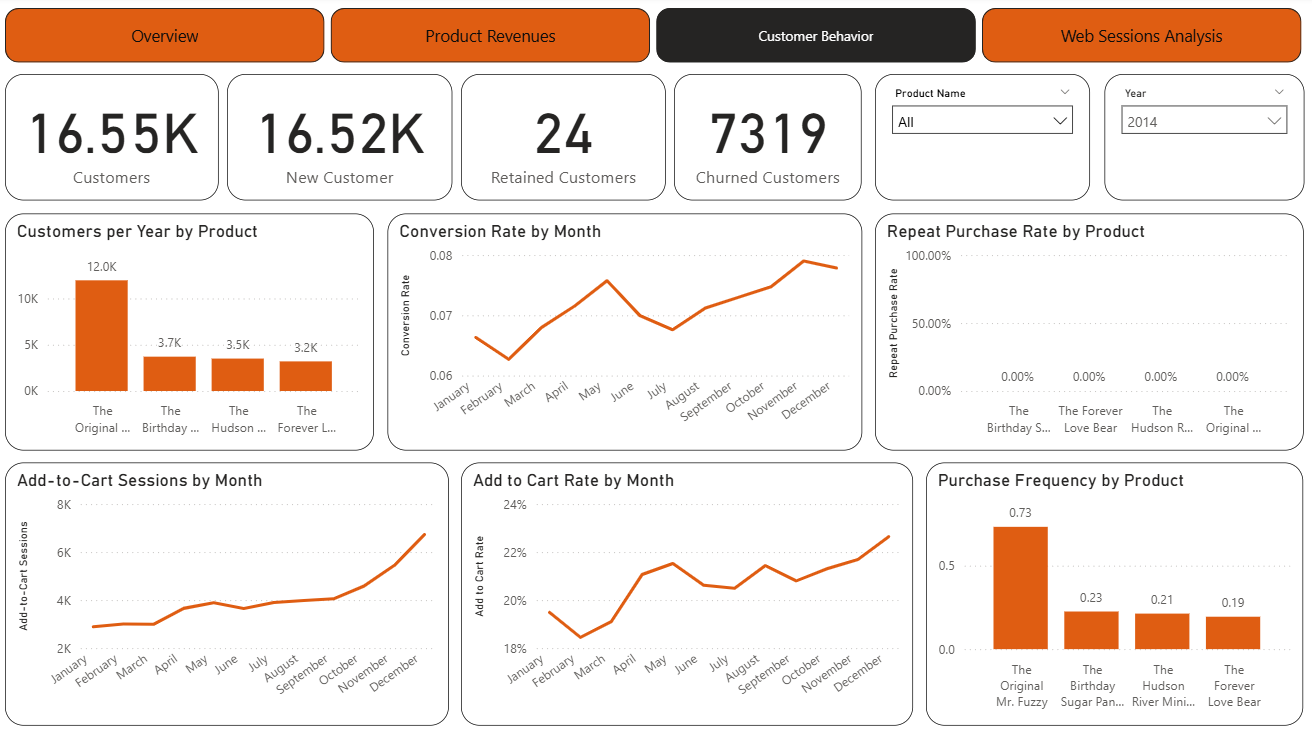

The dashboard page shown, as its layout file describes it:
{"tool":"powerbi","page":{"name":"Customer Behavior","canvas":[1280,720],"ordinal":2},"visuals":[{"type":"card","fields":{"Values":["_Measures.Customers"]},"box":[8.3,76.2,207.1,122.6],"z":0},{"type":"slicer","fields":{"Values":["Date.Year"]},"box":[1075.1,76.2,193.8,122.6],"z":1000},{"type":"card","fields":{"Values":["_Measures.New Customer"]},"box":[223.6,76.2,218.7,122.6],"z":2000},{"type":"card","fields":{"Values":["_Measures.Churned Customers"]},"box":[657.6,76.2,182.2,122.6],"z":3000},{"type":"card","fields":{"Values":["_Measures.Retained Customers"]},"box":[450.6,76.2,198.8,122.6],"z":4000},{"type":"lineChart","fields":{"Y":["_Measures.Conversion Rate"],"Category":["Date.Month"]},"box":[379.3,210.4,460.5,230.3],"z":5000},{"type":"lineChart","fields":{"Y":["_Measures.Add-to-Cart"],"Category":["Date.Month"]},"box":[8.3,452.2,430.7,255.1],"z":6000},{"type":"clusteredColumnChart","title":"Customers per Year by Product","fields":{"Category":["products.product_name"],"Y":["_Measures.Customers per Year"]},"box":[8.3,210.4,357.8,230.3],"z":7000},{"type":"clusteredColumnChart","title":"Repeat Purchase Rate by Product","fields":{"Category":["products.product_name"],"Y":["_Measures.Repeat Purchase Rate"]},"box":[853.1,210.4,415.8,230.3],"z":8000},{"type":"clusteredColumnChart","title":"Purchase Frequency by Product","fields":{"Y":["_Measures.Product Purchase Frequency"],"Category":["products.product_name"]},"box":[902.8,452.2,366.1,255.1],"z":9000},{"type":"lineChart","fields":{"Y":["_Measures.Add to Cart Rate"],"Category":["Date.Month"]},"box":[450.6,452.2,439,255.1],"z":10000},{"type":"slicer","fields":{"Values":["products.product_name"]},"box":[853.1,76.2,208.7,122.6],"z":11000},{"type":"pageNavigator","box":[8.3,11.6,1260.6,53],"z":12000}]}

Visuals, with their boxes in screenshot pixels (x1, y1, x2, y2), scaled from the page's 1280x720 canvas onto the 1312x732 screenshot:
card - _Measures.Customers: (x1=9, y1=77, x2=221, y2=202)
slicer - Date.Year: (x1=1102, y1=77, x2=1301, y2=202)
card - _Measures.New Customer: (x1=229, y1=77, x2=453, y2=202)
card - _Measures.Churned Customers: (x1=674, y1=77, x2=861, y2=202)
card - _Measures.Retained Customers: (x1=462, y1=77, x2=666, y2=202)
lineChart - _Measures.Conversion Rate x Date.Month: (x1=389, y1=214, x2=861, y2=448)
lineChart - _Measures.Add-to-Cart x Date.Month: (x1=9, y1=460, x2=450, y2=719)
"Customers per Year by Product" clusteredColumnChart: (x1=9, y1=214, x2=375, y2=448)
"Repeat Purchase Rate by Product" clusteredColumnChart: (x1=874, y1=214, x2=1301, y2=448)
"Purchase Frequency by Product" clusteredColumnChart: (x1=925, y1=460, x2=1301, y2=719)
lineChart - _Measures.Add to Cart Rate x Date.Month: (x1=462, y1=460, x2=912, y2=719)
slicer - products.product_name: (x1=874, y1=77, x2=1088, y2=202)
pageNavigator: (x1=9, y1=12, x2=1301, y2=66)
